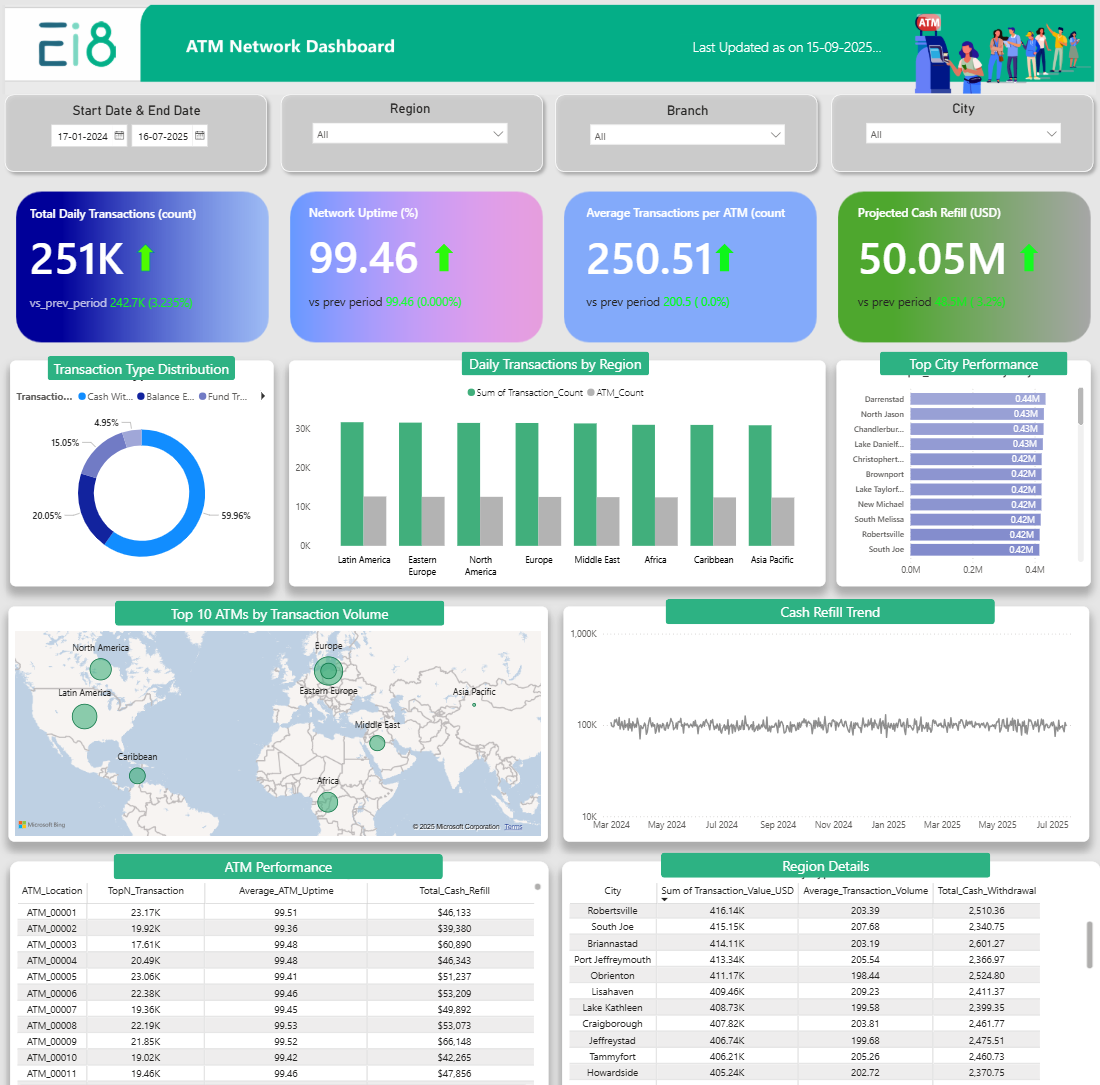

The page's visual inventory and layout, read from the dashboard file:
{"tool":"powerbi","page":{"name":"Page 2","canvas":[1500,1500],"ordinal":1},"visuals":[{"type":"shape","box":[0,124,375,124.1],"z":0,"group":"g1"},{"type":"image","box":[14.8,248.1,1483.3,240.7],"z":0},{"type":"image","box":[0,2.5,1498.8,142.5],"z":1000},{"type":"shape","box":[1125,124,375,124.1],"z":1000,"group":"g1"},{"type":"group","id":"g1","title":"Group 1","box":[0,124,1500,124],"z":2000},{"type":"shape","box":[750,124,375,124.1],"z":2000,"group":"g1"},{"type":"shape","box":[375,124,375,124.1],"z":3000,"group":"g1"},{"type":"cardVisual","fields":{"Data":["ATM.Total_Transaction_count"]},"box":[15,248.3,303.3,213.3],"z":3000},{"type":"cardVisual","fields":{"Data":["Avg(ATM.ATM_Uptime_Percent)"]},"box":[394.4,238.9,333.3,231.5],"z":4000},{"type":"cardVisual","fields":{"Data":["ATM.Average Transactions per ATM (count)"]},"box":[770.7,248.3,336.2,212.1],"z":5000},{"type":"cardVisual","fields":{"Data":["Sum(ATM.Cash_Refill_USD)"]},"box":[1140.7,248.1,303.7,213],"z":6000},{"type":"group","id":"g2","title":"Group 2","box":[15.5,495.6,1470,307.5],"z":7000},{"type":"donutChart","title":"Transaction Type Distribution","fields":{"Category":["ATM.Transaction_Type"],"Y":["Sum(ATM.Transaction_Count)"]},"box":[15.5,495.6,358.6,307.5],"z":7000,"group":"g2"},{"type":"lineChart","title":"Cash Refill Trend","fields":{"Y":["Sum(ATM.Cash_Refill_USD)"],"Category":["ATM.Date"]},"box":[768.8,831,715,320],"z":7000,"group":"g4"},{"type":"slicer","title":"Region","fields":{"Values":["ATM.Region"]},"box":[419,143.1,284.5,82.8],"z":8000},{"type":"clusteredColumnChart","title":"Sum of ","fields":{"Category":["ATM.Region"],"Y":["Sum(ATM.Transaction_Count)","ATM.ATM_Count"]},"box":[394.8,495.6,730,307.5],"z":8000,"group":"g2"},{"type":"slicer","title":"Branch","fields":{"Values":["ATM.Branch"]},"box":[796.6,144.8,284.5,82.8],"z":9000},{"type":"map","fields":{"Category":["ATM.Region","ATM.City"],"Size":["ATM.TopN_Transaction"]},"box":[13.8,831,733.8,320],"z":9000,"group":"g4"},{"type":"slicer","title":"City","fields":{"Values":["ATM.City"]},"box":[1170.7,143.1,284.5,82.8],"z":10000},{"type":"clusteredBarChart","fields":{"Category":["ATM.City"],"Y":["ATM.TopN_Transaction"]},"box":[1139.8,495.6,345.7,307.5],"z":10000,"group":"g2"},{"type":"tableEx","title":"ATM Performance Ranking","fields":{"Values":["ATM.ATM_Location","ATM.TopN_Transaction","ATM.Average_ATM_Uptime","ATM.Total_Cash_Refill"]},"box":[15.5,1177.6,733,322.4],"z":10000,"group":"g3"},{"type":"group","id":"g3","title":"Group 3","box":[15.5,1177.6,1484.5,322.4],"z":11000},{"type":"tableEx","title":"City Type Details","fields":{"Values":["ATM.City","Sum(ATM.Transaction_Value_USD)","ATM.Average_Transaction_Volume","ATM.Total_Cash_Withdrawal"]},"box":[767,1177.6,733,322.4],"z":11000,"group":"g3"},{"type":"group","id":"g4","title":"Group 4","box":[13.8,831,1469,320.7],"z":12000},{"type":"image","box":[875.9,46.6,387.9,43.1],"z":13000},{"type":"card","fields":{"Values":["ATM.Last Updated Text"]},"box":[939.7,50,269,39.7],"z":14000},{"type":"shape","title":"Transaction Type Distribution","box":[67.2,489.7,255.2,32.8],"z":15000},{"type":"shape","title":"Transaction Type Distribution","box":[631,484.5,255.2,32.8],"z":16000},{"type":"shape","title":"Transaction Type Distribution","box":[1200,484.5,255.2,32.8],"z":17000},{"type":"shape","title":"Transaction Type Distribution","box":[158.6,822.4,448.3,34.5],"z":18000},{"type":"shape","title":"Transaction Type Distribution","box":[908.6,820.7,448.3,34.5],"z":19000},{"type":"shape","title":"Transaction Type Distribution","box":[156.9,1167.2,448.3,34.5],"z":20000},{"type":"shape","title":"Transaction Type Distribution","box":[901.7,1165.5,448.3,34.5],"z":21000},{"type":"shape","box":[187.9,336.2,25.9,37.9],"z":22000},{"type":"shape","box":[593.1,336.2,25.9,37.9],"z":23000},{"type":"shape","box":[975.9,336.2,25.9,37.9],"z":24000},{"type":"shape","box":[1389.7,336.2,25.9,37.9],"z":25000},{"type":"slicer","title":"Start Date &  End Date","fields":{"Values":["ATM.Date"]},"box":[58.6,144.8,258.6,82.8],"z":27000}]}

Visuals, with their boxes in screenshot pixels (x1, y1, x2, y2), scaled from the page's 1500x1500 canvas onto the 1100x1085 screenshot:
shape: box=[0, 90, 275, 179]
image: box=[11, 179, 1099, 354]
image: box=[0, 2, 1099, 105]
shape: box=[825, 90, 1099, 179]
"Group 1" group: box=[0, 90, 1099, 179]
shape: box=[550, 90, 825, 179]
shape: box=[275, 90, 550, 179]
cardVisual - ATM.Total_Transaction_count: box=[11, 180, 233, 334]
cardVisual - Avg(ATM.ATM_Uptime_Percent): box=[289, 173, 534, 340]
cardVisual - ATM.Average Transactions per ATM (count): box=[565, 180, 812, 333]
cardVisual - Sum(ATM.Cash_Refill_USD): box=[837, 179, 1059, 334]
"Group 2" group: box=[11, 358, 1089, 581]
"Transaction Type Distribution" donutChart: box=[11, 358, 274, 581]
"Cash Refill Trend" lineChart: box=[564, 601, 1088, 833]
"Region" slicer: box=[307, 104, 516, 163]
"Sum of " clusteredColumnChart: box=[290, 358, 825, 581]
"Branch" slicer: box=[584, 105, 793, 165]
map - ATM.Region x ATM.City: box=[10, 601, 548, 833]
"City" slicer: box=[859, 104, 1067, 163]
clusteredBarChart - ATM.City x ATM.TopN_Transaction: box=[836, 358, 1089, 581]
"ATM Performance Ranking" tableEx: box=[11, 852, 549, 1084]
"Group 3" group: box=[11, 852, 1099, 1084]
"City Type Details" tableEx: box=[562, 852, 1099, 1084]
"Group 4" group: box=[10, 601, 1087, 833]
image: box=[642, 34, 927, 65]
card - ATM.Last Updated Text: box=[689, 36, 886, 65]
"Transaction Type Distribution" shape: box=[49, 354, 236, 378]
"Transaction Type Distribution" shape: box=[463, 350, 650, 374]
"Transaction Type Distribution" shape: box=[880, 350, 1067, 374]
"Transaction Type Distribution" shape: box=[116, 595, 445, 620]
"Transaction Type Distribution" shape: box=[666, 594, 995, 619]
"Transaction Type Distribution" shape: box=[115, 844, 444, 869]
"Transaction Type Distribution" shape: box=[661, 843, 990, 868]
shape: box=[138, 243, 157, 271]
shape: box=[435, 243, 454, 271]
shape: box=[716, 243, 735, 271]
shape: box=[1019, 243, 1038, 271]
"Start Date &  End Date" slicer: box=[43, 105, 233, 165]
